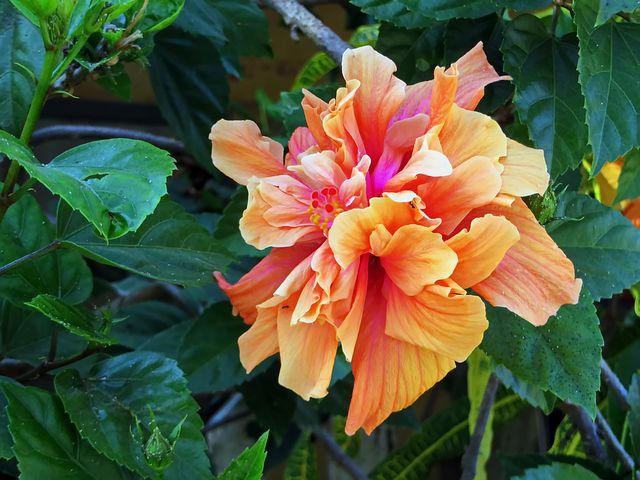Hibiscus: (214, 45, 573, 424)
